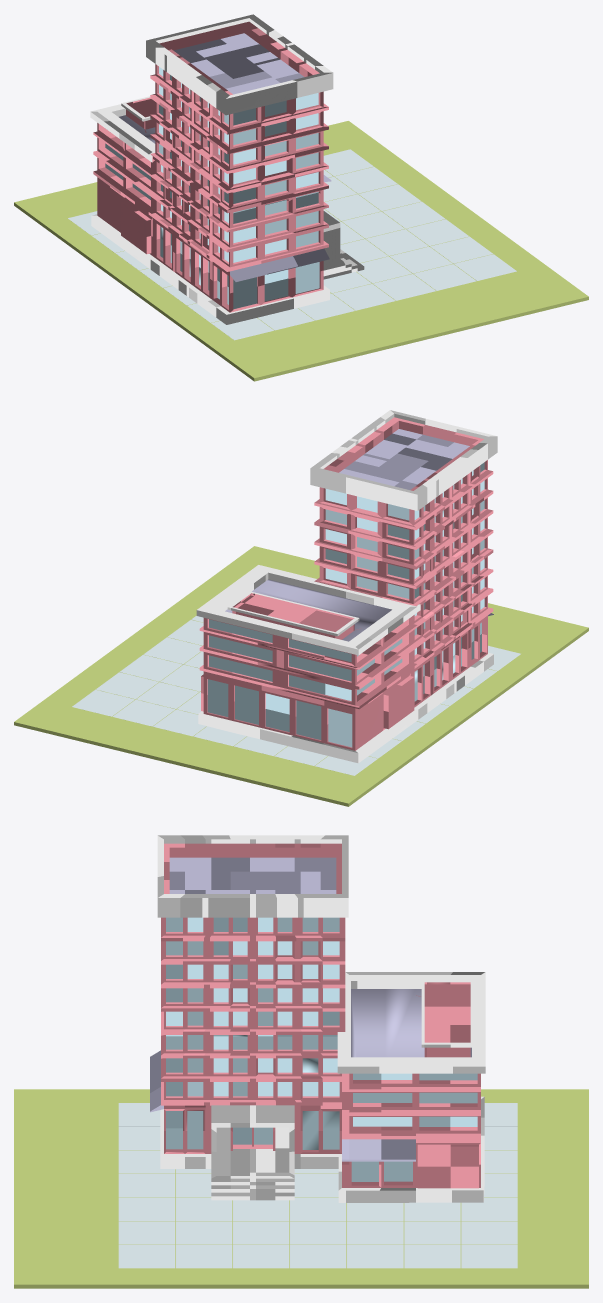
Rendered from building6.glb.
3 views of the same model, one above another, from view 1: azimuth 30°, elevation 25°; view 2: azimuth 150°, elevation 25°; view 3: azimuth 270°, elevation 25° (orthographic). The views are drawn at different scales.
Parts seen in each view (by area): view 1: Floor_1; view 2: Floor_1; view 3: Floor_1.
Part boxes in pixels (left/top/right/bottom): Floor_1: left=14, top=14, right=588, bottom=381; Floor_1: left=14, top=410, right=588, bottom=806; Floor_1: left=14, top=835, right=588, bottom=1288.
Size of the model in its own units: 1.22 by 0.8039 by 1.52.
